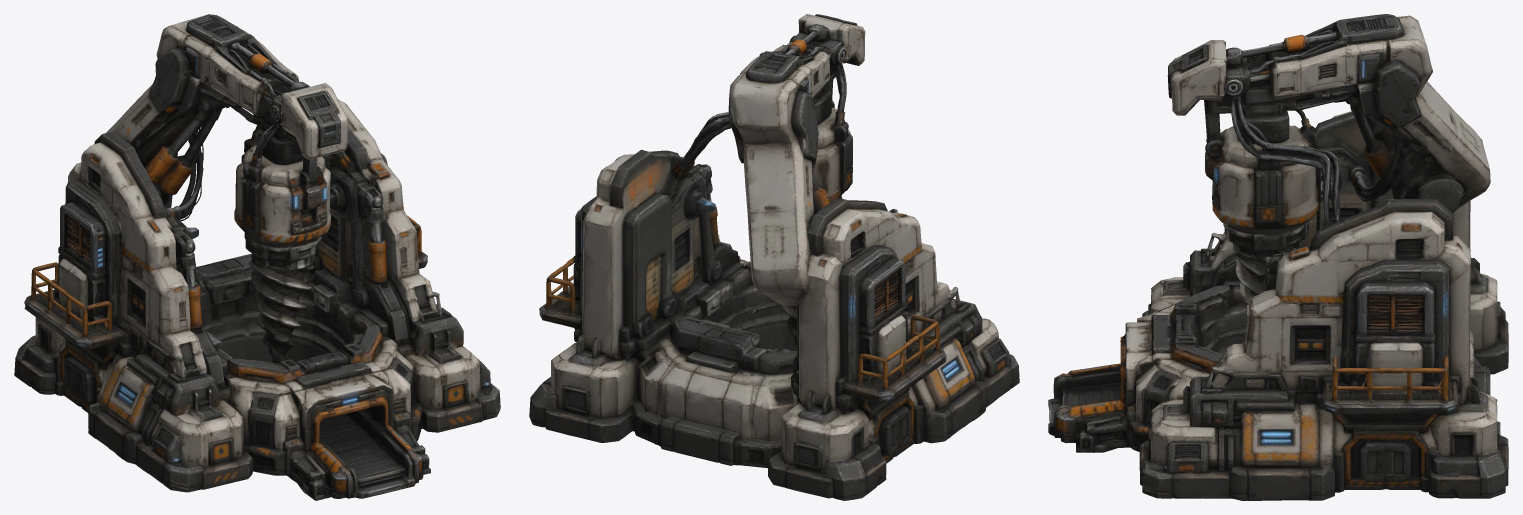
Rendered from tripo_convert_99a7b585-fa58-4caa-870b-f659e22b54da.fbx.
3 renders of one model, left to right at view 1: azimuth 30°, elevation 25°; view 2: azimuth 150°, elevation 25°; view 3: azimuth 270°, elevation 25°, orthographic. The views are drawn at different scales.
Visible parts, largest first — view 1: tripo_node_99a7b585; view 2: tripo_node_99a7b585; view 3: tripo_node_99a7b585.
Part boxes in pixels (x1,y1,x2,y2): tripo_node_99a7b585: (14,14,500,500); tripo_node_99a7b585: (529,14,1019,500); tripo_node_99a7b585: (1048,14,1508,500).
Size of the model in its own units: 0.9214 by 0.9193 by 0.9807.
Materials: 1 (1 with a texture image).
